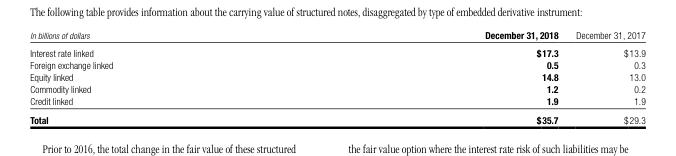table: (29, 28, 644, 124)
table column: (29, 28, 298, 124), (298, 28, 566, 124), (566, 28, 644, 124)
table column header: (29, 28, 644, 43)
table row: (29, 28, 644, 43), (29, 43, 644, 58), (29, 94, 644, 109), (29, 109, 644, 124), (29, 58, 644, 70), (29, 70, 644, 82), (29, 82, 644, 94)
